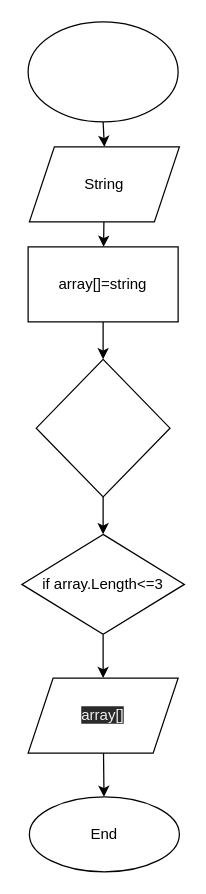
Some shapes in this 206 by 894 pixel diagram are drawn without their labels. Here are the shapes that lost their labels. From the top down, the box of each, then its label:
(27, 21, 178, 122): Start
(35, 358, 170, 497): for i=0 i<array.Length i++
